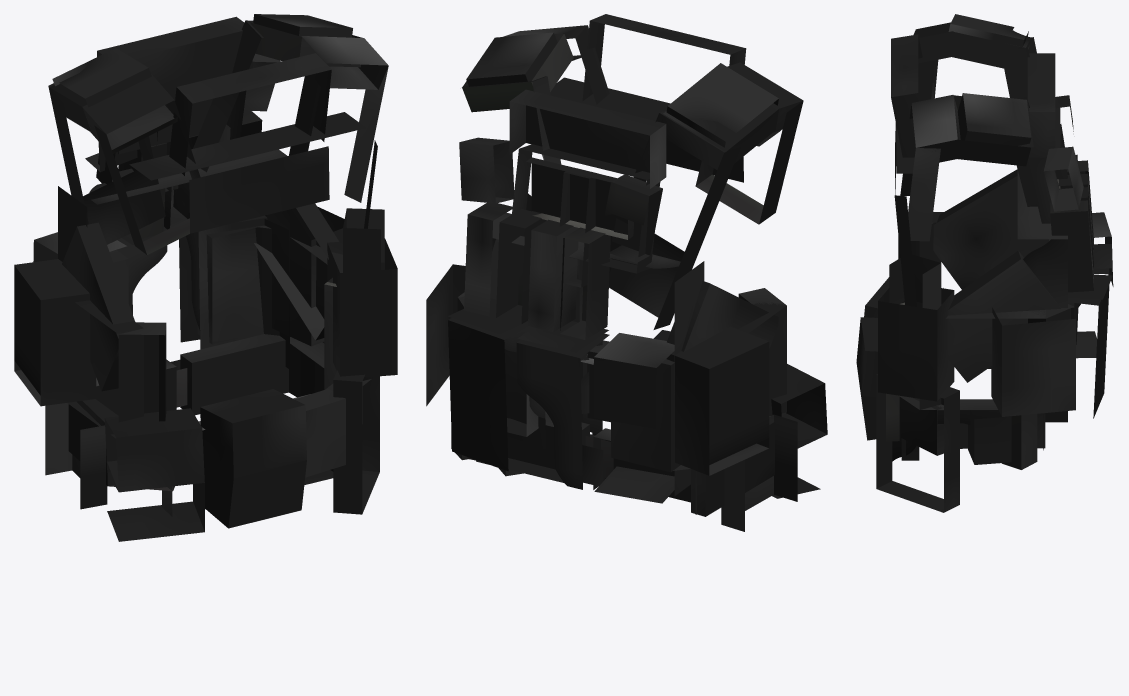
File: r_police.obj
The picture shows the model from 3 angles, left to right: view 1: azimuth 30°, elevation 25°; view 2: azimuth 150°, elevation 25°; view 3: azimuth 270°, elevation 25°; orthographic projection. The views are drawn at different scales.
Visible parts, largest first — view 1: plane; view 2: plane; view 3: plane.
Boxes of the visible parts, x1,y1,x2,y2 form: plane: (14, 14, 397, 541); plane: (426, 14, 827, 531); plane: (856, 14, 1113, 512).
Bounding box in the file's own units: 0.7741 × 1.56 × 0.6395.
